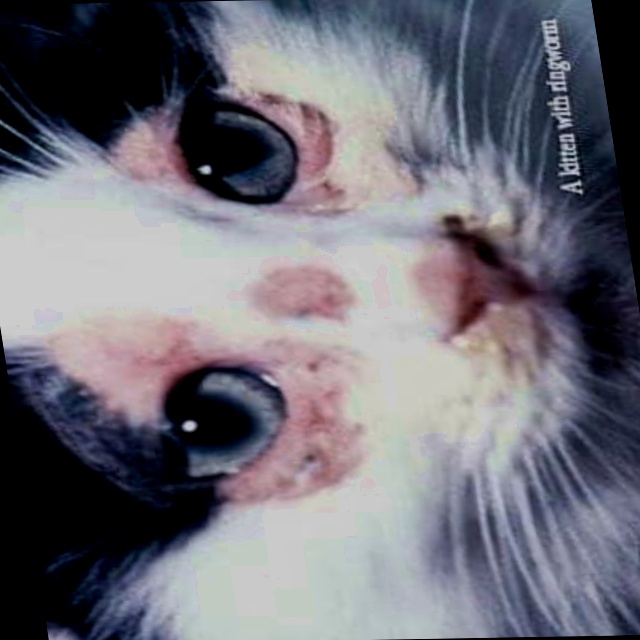ringworm: (215, 354, 380, 508), (269, 103, 346, 199), (249, 265, 357, 309)
